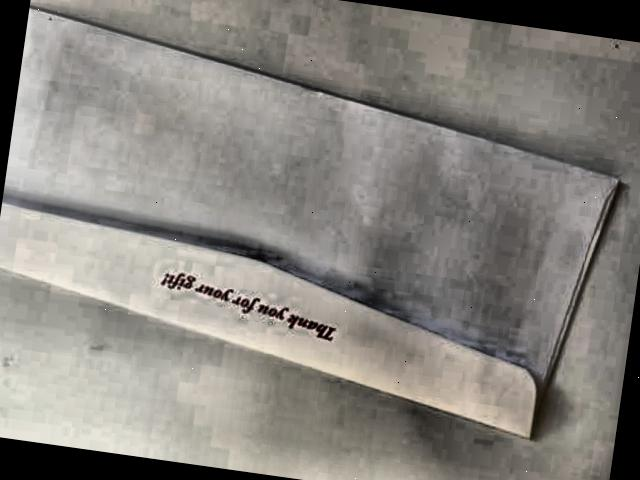Paper: (0, 0, 640, 464)
